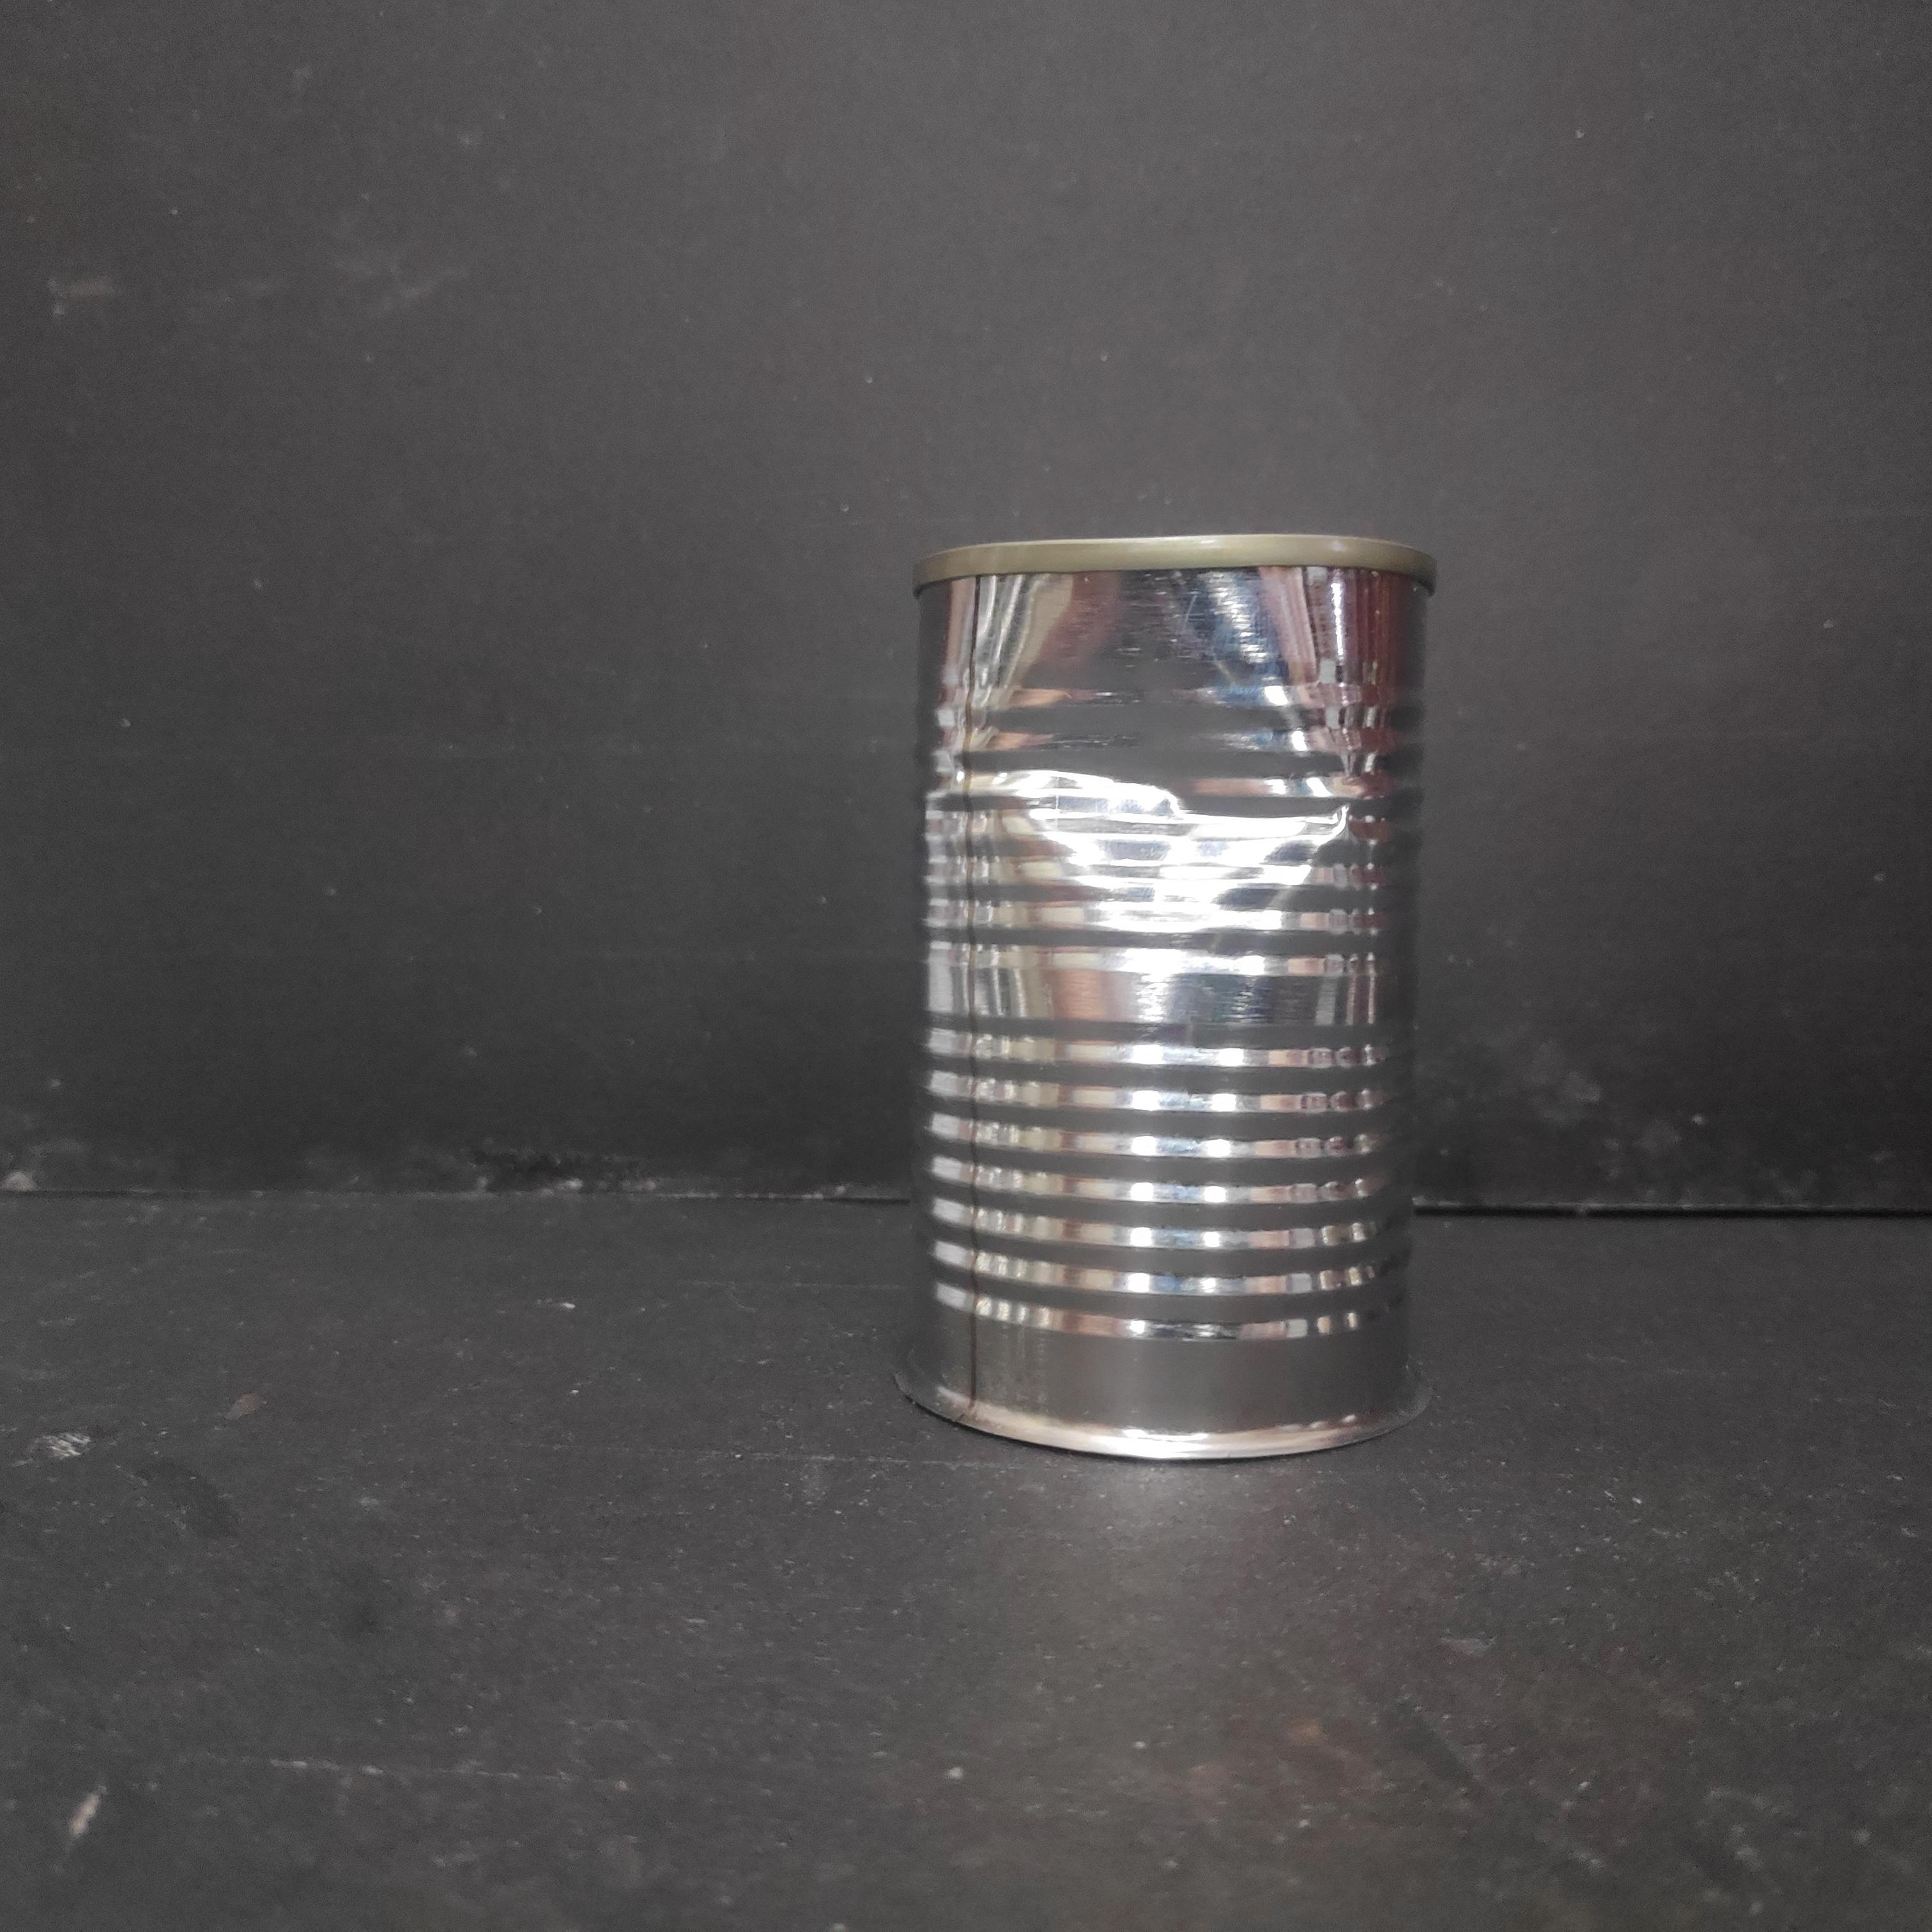Minor Defect: (895, 527, 1454, 1474)
